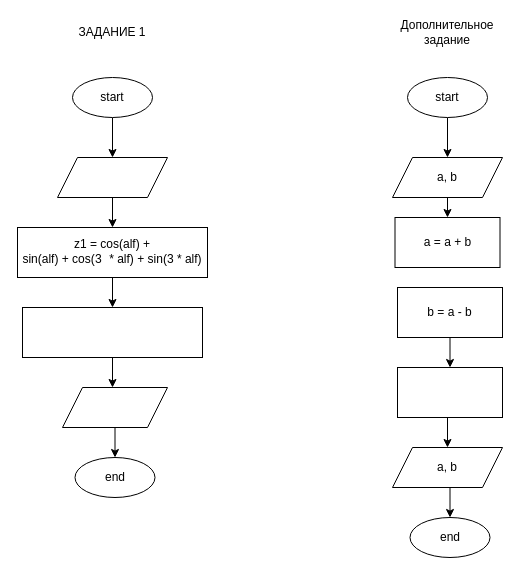
Some shapes in this 525 by 575 pixel diagram are drawn without their labels. The centre of each missing label's shape, as x and y in pixels:
"a = a - b" goes at pixel 449 392.
"alf" goes at pixel 112 177.
"z1, z2" goes at pixel 115 407.
"z2 = 2 * sqrt(2) * cos(alf) * sin((pi/4) + 2 * alf)" goes at pixel 112 332.
